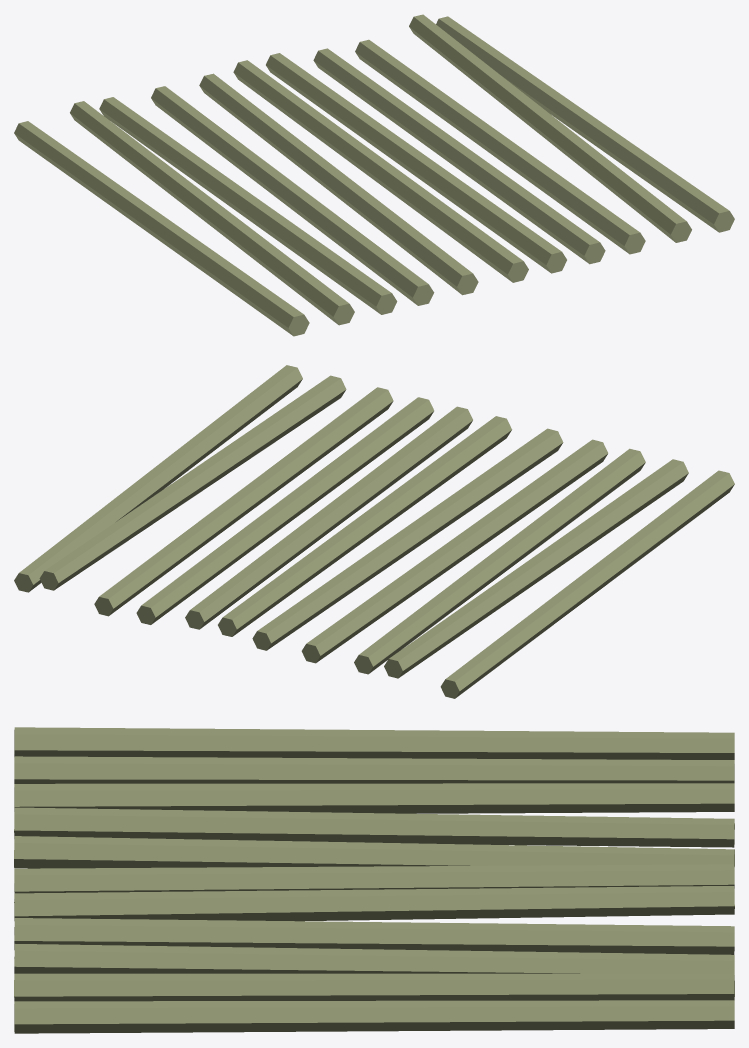
File: jirau_talos.glb
3 renders of one model, top to bottom at view 1: azimuth 30°, elevation 25°; view 2: azimuth 150°, elevation 25°; view 3: azimuth 270°, elevation 25°, orthographic. The views are drawn at different scales.
Visible parts, largest first — view 1: jirau_talos; view 2: jirau_talos; view 3: jirau_talos.
Boxes of the visible parts, x1,y1,x2,y2 form: jirau_talos: (14, 14, 734, 336); jirau_talos: (14, 365, 734, 698); jirau_talos: (14, 727, 734, 1033).
Size of the model in its own units: 0.7593 by 0.0474 by 0.801.
